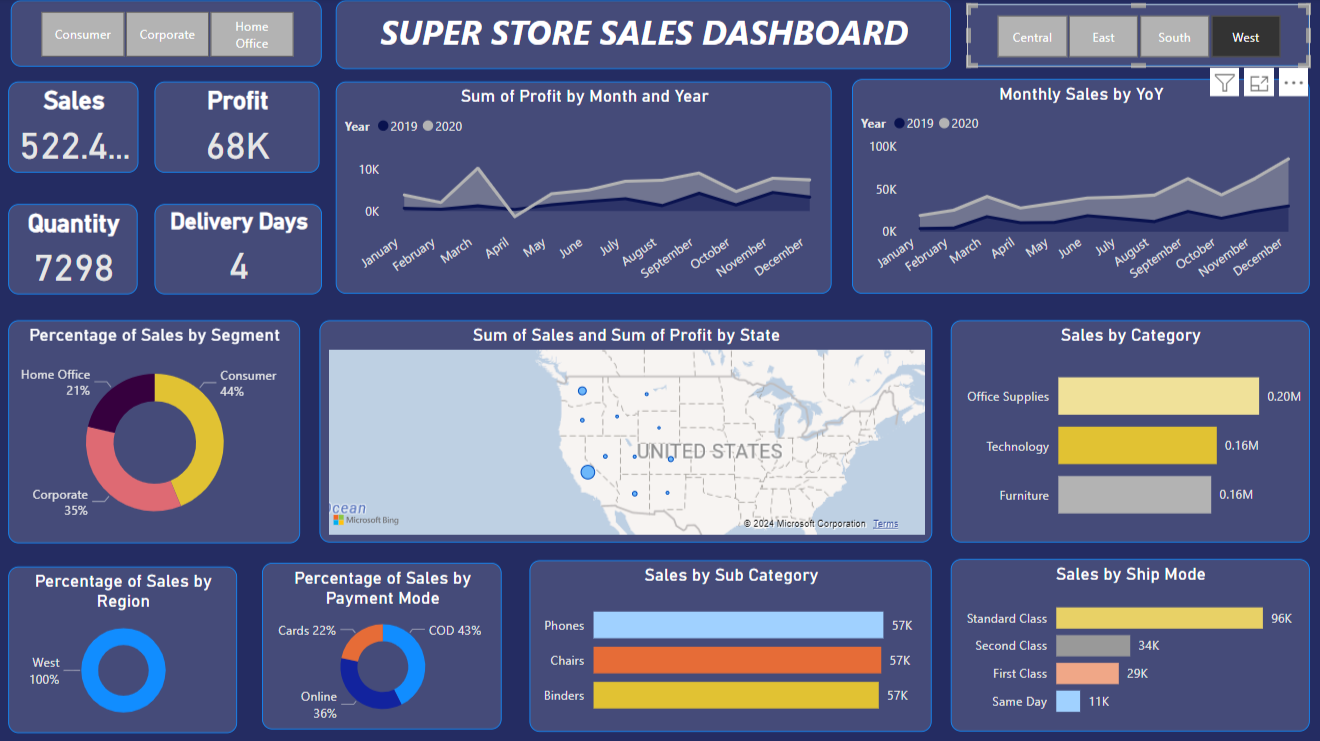

What the dashboard file says about the page in this screenshot:
{"tool":"powerbi","page":{"name":"Page 1","canvas":[1280,720],"ordinal":0},"visuals":[{"type":"clusteredBarChart","title":"Sales by Category","fields":{"Category":["SuperStore_Sales_Dataset.Category"],"Y":["Sum(SuperStore_Sales_Dataset.Sales)"]},"box":[920.2,311.2,346.1,214.7],"z":0},{"type":"clusteredBarChart","title":"Sales by Sub Category","fields":{"Category":["SuperStore_Sales_Dataset.Sub-Category"],"Y":["Sum(SuperStore_Sales_Dataset.Sales)"]},"box":[513.8,542.7,388.3,165.2],"z":1000},{"type":"clusteredBarChart","title":"Sales by Ship Mode","fields":{"Category":["SuperStore_Sales_Dataset.Ship Mode"],"Y":["Sum(SuperStore_Sales_Dataset.Sales)"]},"box":[920,541.2,346.2,166.2],"z":2000},{"type":"stackedAreaChart","title":"Monthly Sales by YoY","fields":{"Y":["Sum(SuperStore_Sales_Dataset.Sales)"],"Category":["SuperStore_Sales_Dataset.Order Date.Variation.Date Hierarchy.Month","SuperStore_Sales_Dataset.Order Date.Variation.Date Hierarchy.Day"],"Series":["SuperStore_Sales_Dataset.Order Date.Variation.Date Hierarchy.Year"]},"box":[825,78.8,441.2,207.5],"z":3000},{"type":"stackedAreaChart","fields":{"Category":["SuperStore_Sales_Dataset.Order Date.Variation.Date Hierarchy.Month","SuperStore_Sales_Dataset.Order Date.Variation.Date Hierarchy.Day"],"Series":["SuperStore_Sales_Dataset.Order Date.Variation.Date Hierarchy.Year"],"Y":["Sum(SuperStore_Sales_Dataset.Profit)"]},"box":[326.2,81.2,478.8,205],"z":4000},{"type":"map","fields":{"Category":["SuperStore_Sales_Dataset.State"],"Size":["Sum(SuperStore_Sales_Dataset.Sales)"]},"box":[311.2,311.2,591,214.7],"z":5000},{"type":"donutChart","title":"Percentage of Sales by Segment","fields":{"Category":["SuperStore_Sales_Dataset.Segment"],"Y":["Sum(SuperStore_Sales_Dataset.Sales)"]},"box":[11.2,311.2,281.2,215],"z":6000},{"type":"donutChart","title":"Percentage of Sales by Payment Mode","fields":{"Category":["SuperStore_Sales_Dataset.Payment Mode"],"Y":["Sum(SuperStore_Sales_Dataset.Sales)"]},"box":[255.7,545.1,231.6,160.4],"z":7000},{"type":"slicer","fields":{"Values":["SuperStore_Sales_Dataset.Region"]},"box":[936.2,6.2,330,60],"z":8000},{"type":"textbox","box":[326.2,2.5,593.8,66.2],"z":9000},{"type":"card","title":"Sales","fields":{"Values":["Sum(SuperStore_Sales_Dataset.Sales)"]},"box":[11.2,81.2,125,87.5],"z":10000},{"type":"card","title":"Quantity","fields":{"Values":["Sum(SuperStore_Sales_Dataset.Quantity)"]},"box":[11.2,198.8,125,87.5],"z":11000},{"type":"card","title":"Profit","fields":{"Values":["Sum(SuperStore_Sales_Dataset.Profit)"]},"box":[161.2,81.2,152.5,87.5],"z":12000},{"type":"card","title":"Delivery Days","fields":{"Values":["Avg(SuperStore_Sales_Dataset.AvgDelievery)"]},"box":[162.5,198.8,151.2,87.5],"z":13000},{"type":"donutChart","title":"Percentage of Sales by Region","fields":{"Category":["SuperStore_Sales_Dataset.Region"],"Y":["Sum(SuperStore_Sales_Dataset.Sales)"]},"box":[10.9,548.7,220.7,160.4],"z":14000},{"type":"slicer","fields":{"Values":["SuperStore_Sales_Dataset.Segment"]},"box":[11.2,2.5,300,63.8],"z":15000}]}

Visuals, with their boxes in screenshot pixels (x1, y1, x2, y2), scaled from the page's 1280x720 canvas onto the 1320x741 screenshot:
"Sales by Category" clusteredBarChart: <region>949, 320, 1306, 541</region>
"Sales by Sub Category" clusteredBarChart: <region>530, 559, 930, 729</region>
"Sales by Ship Mode" clusteredBarChart: <region>949, 557, 1306, 728</region>
"Monthly Sales by YoY" stackedAreaChart: <region>851, 81, 1306, 295</region>
stackedAreaChart - SuperStore_Sales_Dataset.Order Date.Variation.Date Hierarchy.Month x SuperStore_Sales_Dataset.Order Date.Variation.Date Hierarchy.Day: <region>336, 84, 830, 295</region>
map - SuperStore_Sales_Dataset.State x Sum(SuperStore_Sales_Dataset.Sales): <region>321, 320, 930, 541</region>
"Percentage of Sales by Segment" donutChart: <region>12, 320, 302, 542</region>
"Percentage of Sales by Payment Mode" donutChart: <region>264, 561, 503, 726</region>
slicer - SuperStore_Sales_Dataset.Region: <region>965, 6, 1306, 68</region>
textbox: <region>336, 3, 949, 71</region>
"Sales" card: <region>12, 84, 140, 174</region>
"Quantity" card: <region>12, 205, 140, 295</region>
"Profit" card: <region>166, 84, 324, 174</region>
"Delivery Days" card: <region>168, 205, 324, 295</region>
"Percentage of Sales by Region" donutChart: <region>11, 565, 239, 730</region>
slicer - SuperStore_Sales_Dataset.Segment: <region>12, 3, 321, 68</region>
